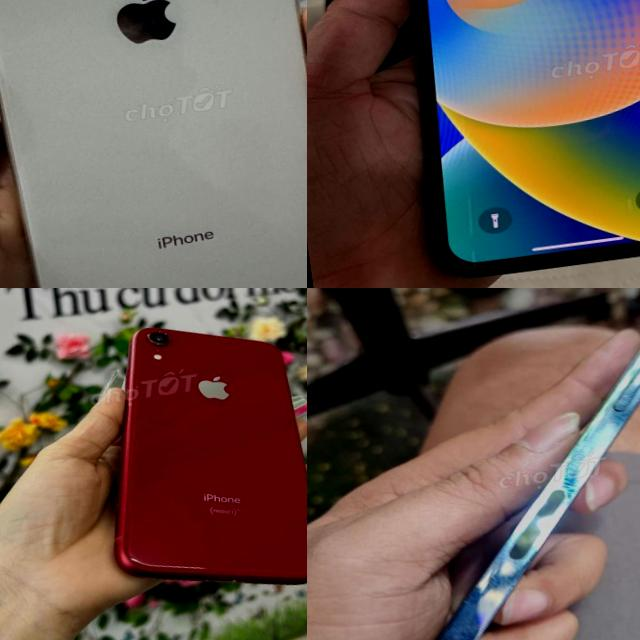gen_12_13: (336, 288, 640, 640)
gen_7_8: (0, 0, 307, 288)
gen_x_xs: (380, 0, 640, 288), (84, 301, 307, 613)
